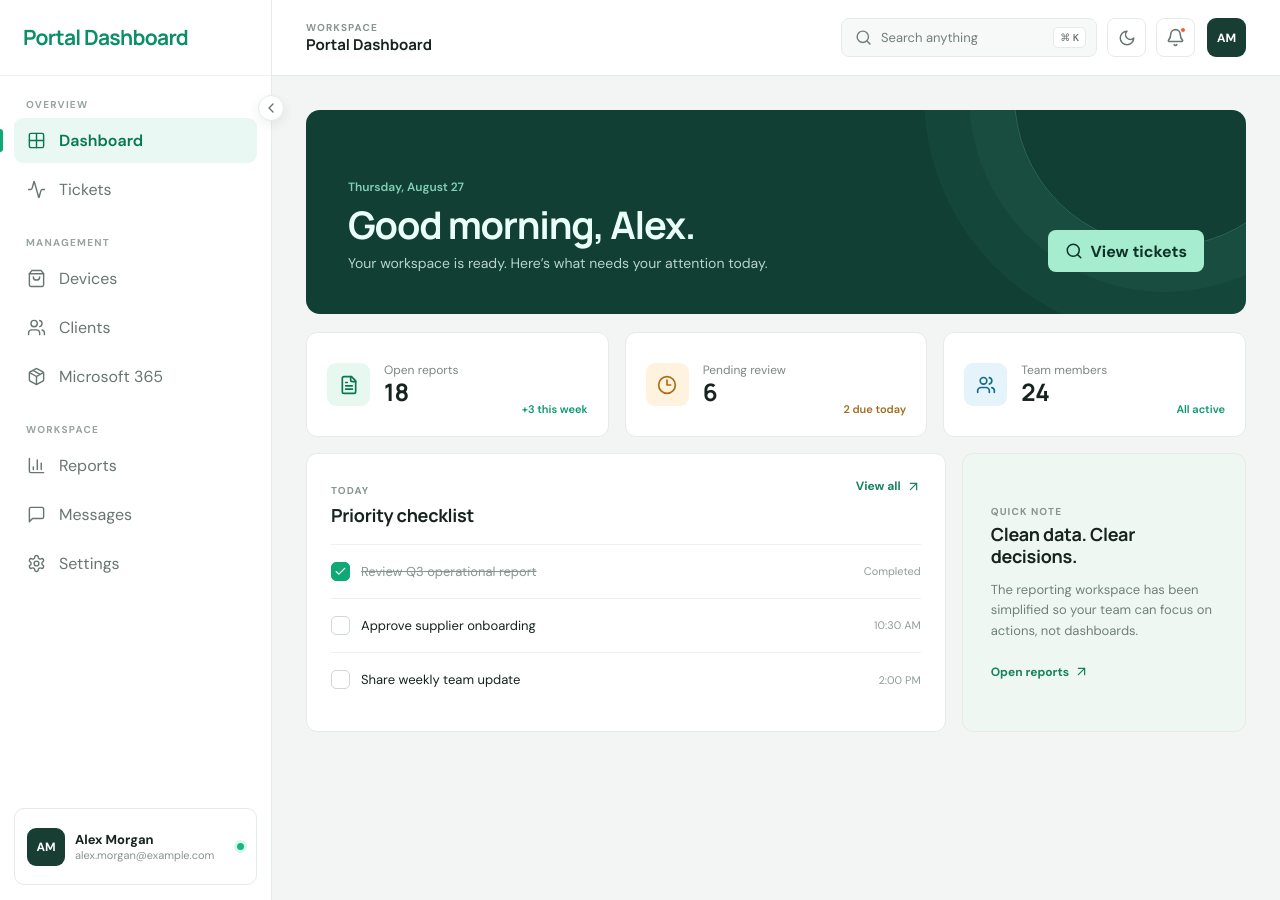
it: App routing › navigates from the sidebar to the Devices demo
The width and height of the screenshot is (1280, 900).
Click the button "Devices" at point(136, 278), box [14,256,257,301]
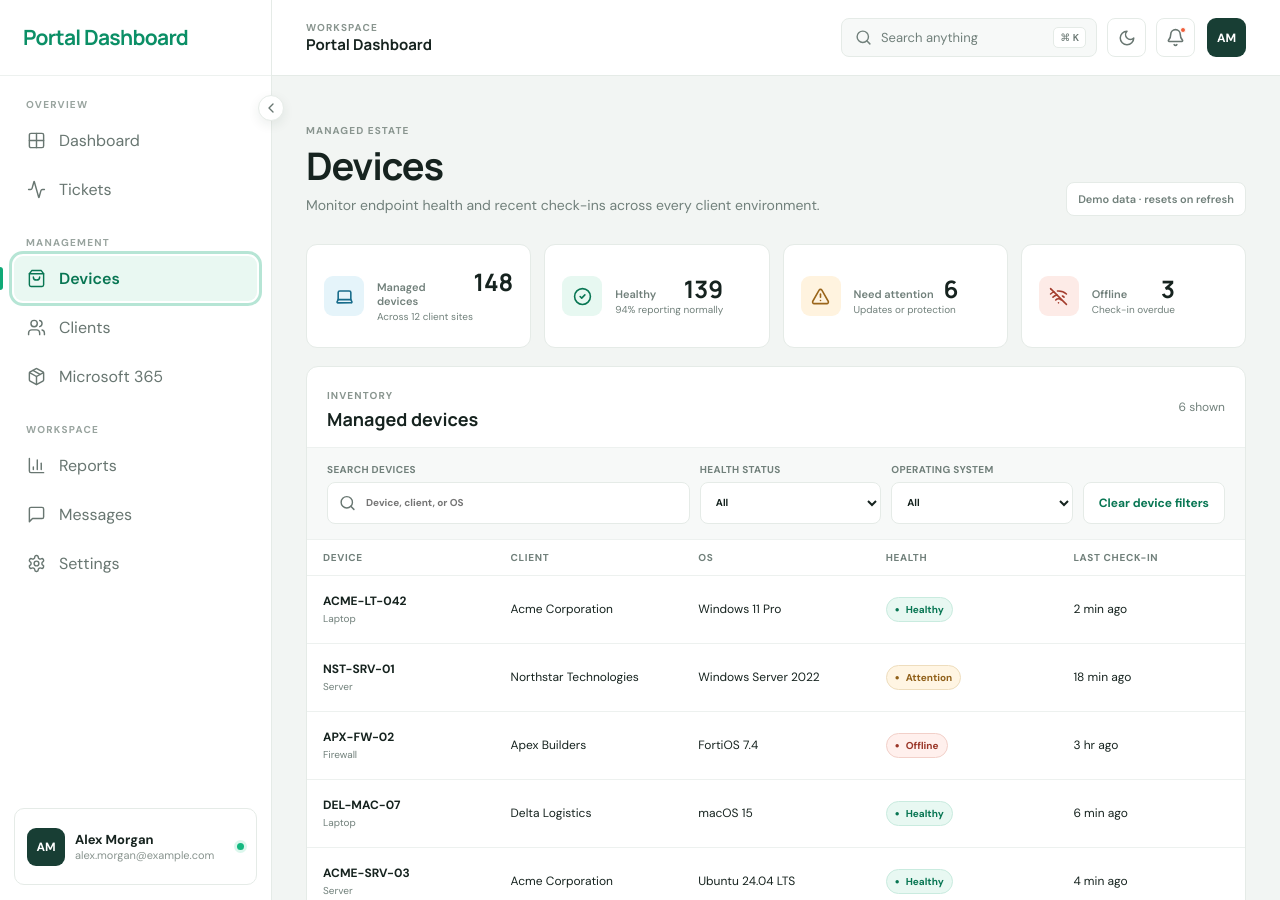
Result: the heading "Devices" is shown at [306,139,443,191]
